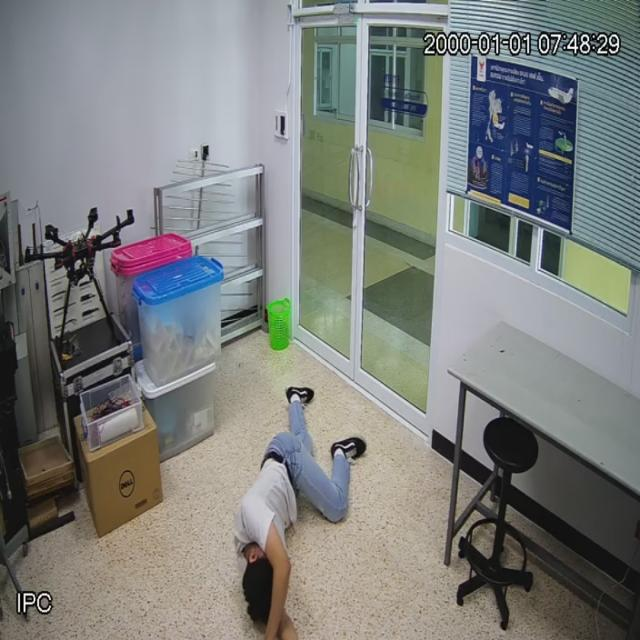fall: (237, 394, 365, 640)
